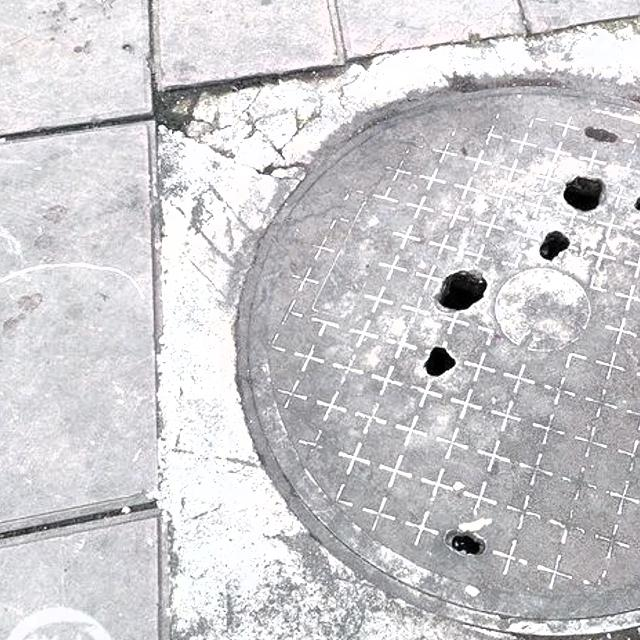circle: (131, 3, 640, 640)
